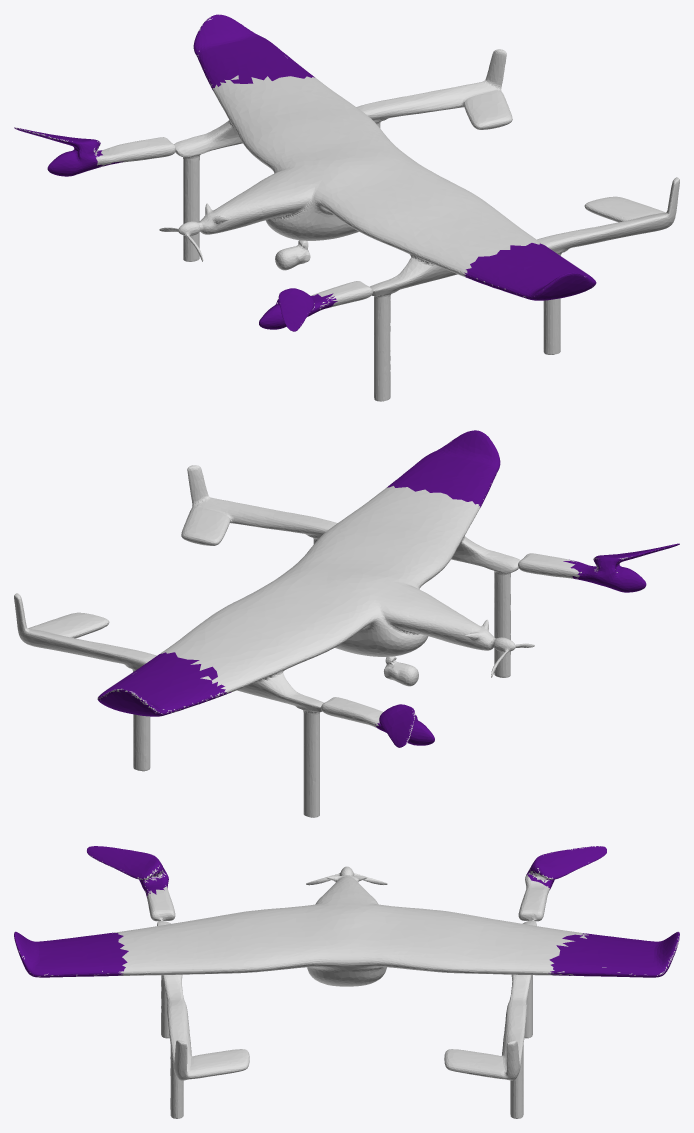
File: atva1_.glb
3 renders of one model, top to bottom at view 1: azimuth 30°, elevation 25°; view 2: azimuth 150°, elevation 25°; view 3: azimuth 270°, elevation 25°, orthographic. The views are drawn at different scales.
Visible parts, largest first — view 1: mesh_node; view 2: mesh_node; view 3: mesh_node.
Boxes of the visible parts, x1,y1,x2,y2 form: mesh_node: (14,14,679,401); mesh_node: (14,430,679,817); mesh_node: (14,846,679,1118).
Bounding box in the file's own units: 1.37 × 0.4714 × 1.9.
